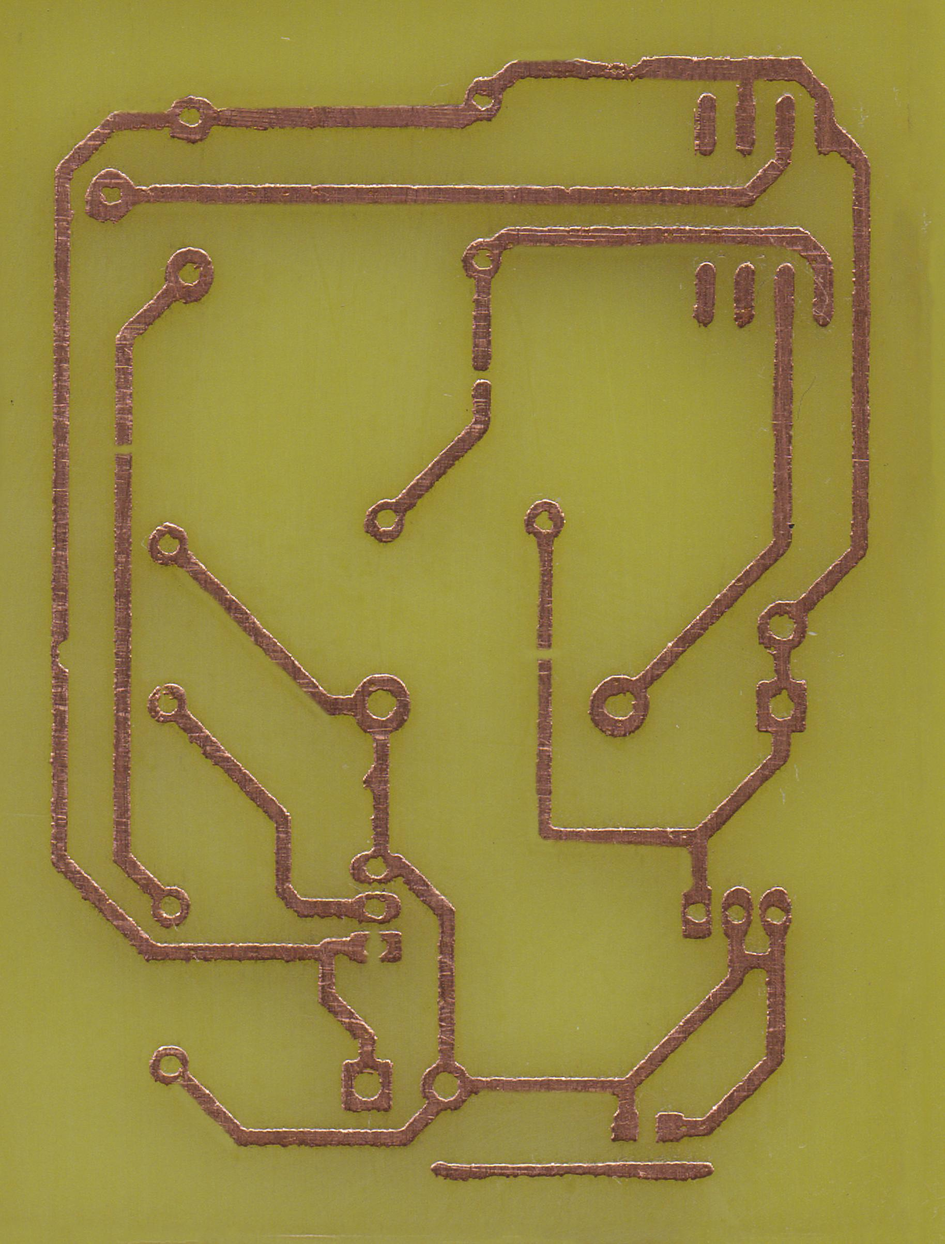missing_hole: (341, 927, 407, 969)
mouse_bite: (583, 48, 657, 83), (47, 636, 76, 675)
open_circuit: (467, 357, 498, 393), (531, 635, 559, 669), (113, 433, 136, 474)
short: (733, 941, 783, 972)
spur: (360, 757, 391, 797)
spurious_copper: (428, 1148, 714, 1192)
